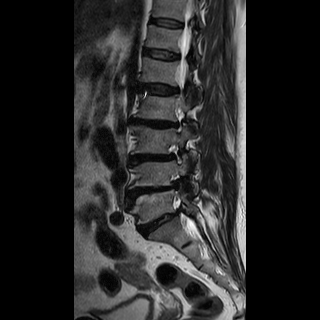RFS1: (162, 137, 184, 168)
